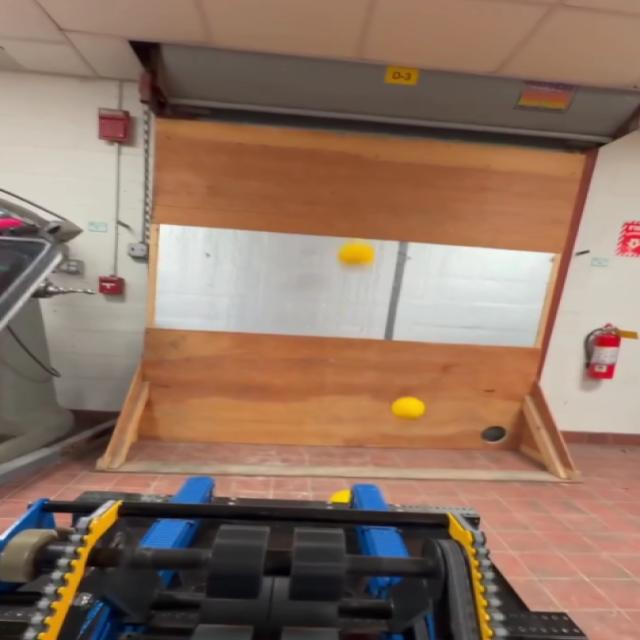Fuel: (338, 242, 374, 264), (339, 242, 373, 264), (392, 396, 424, 418), (329, 489, 348, 502)
